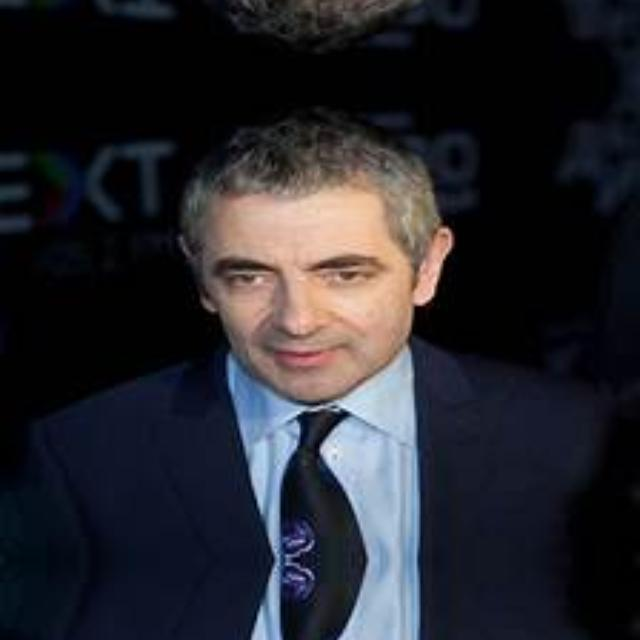person: (167, 130, 496, 560), (166, 560, 495, 640), (166, 0, 495, 30)
